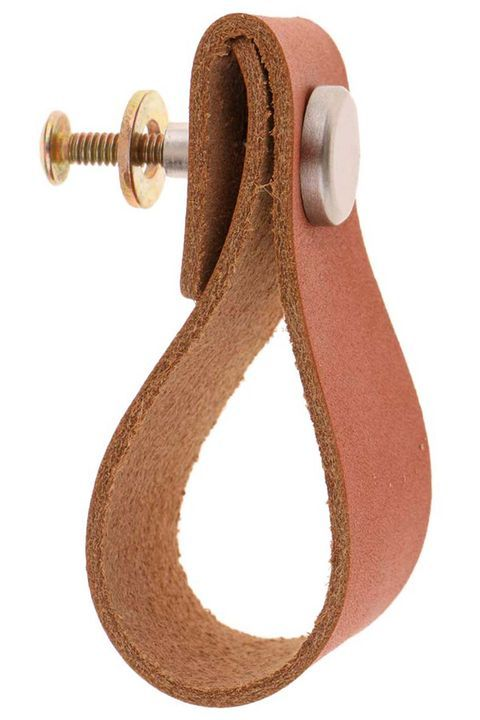cuero: (82, 12, 433, 708)
